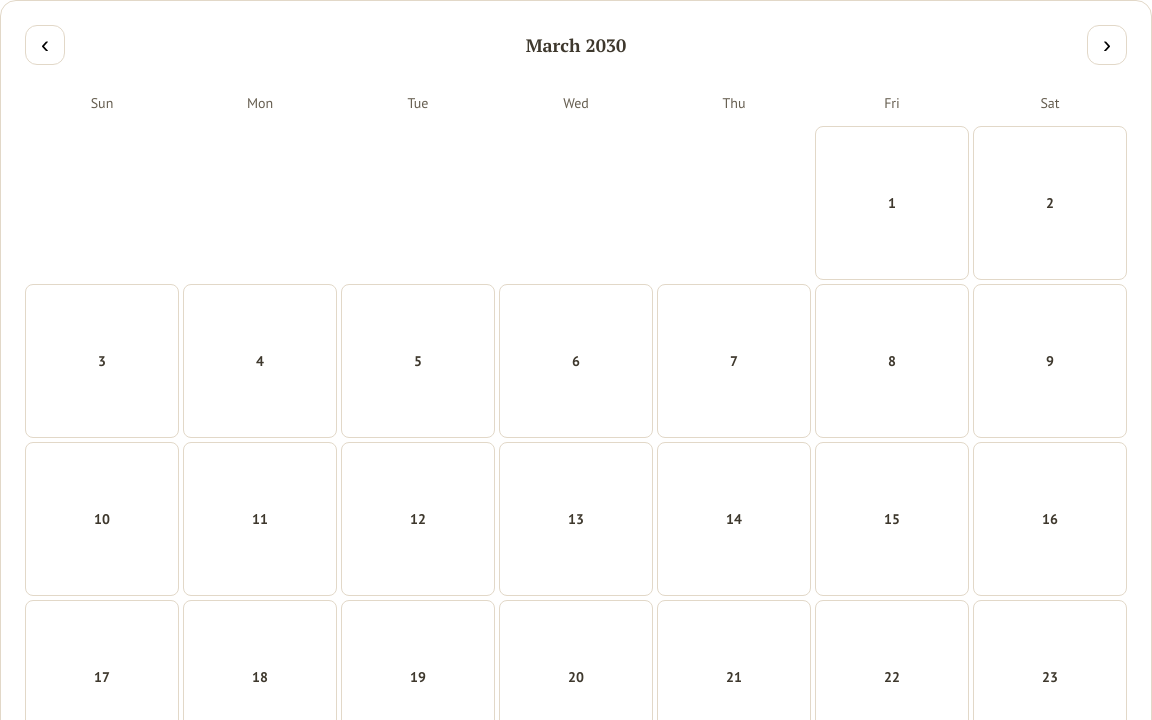
Test case: DateRangeCalendar › blocks a range the validator rejects and shows why
Click the button "10" at (102, 519), box top-left (25, 442), bottom-right (179, 596)
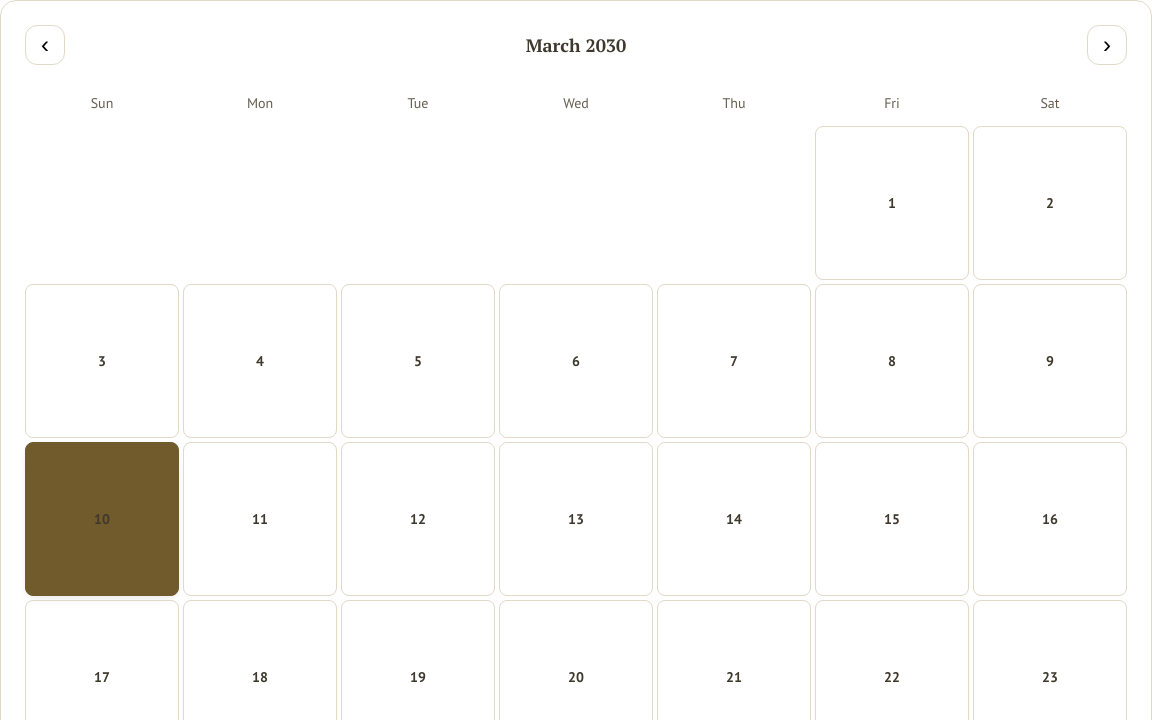
Click the button "13" at (576, 519), box top-left (499, 442), bottom-right (653, 596)
(page scrolled)
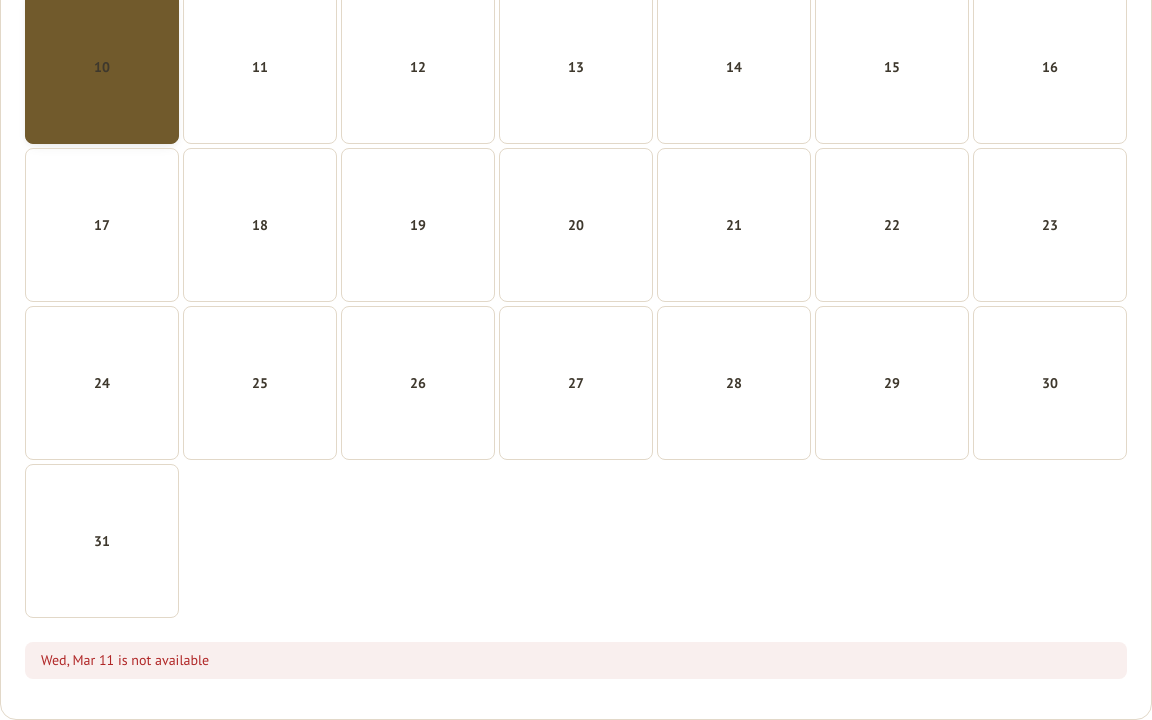
Now the message reads "Wed, Mar 11 is not available", box top-left (41, 651), bottom-right (209, 669)
